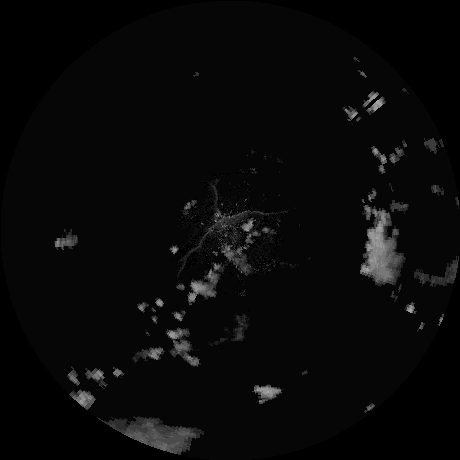frontgust: (209, 182, 222, 218)
